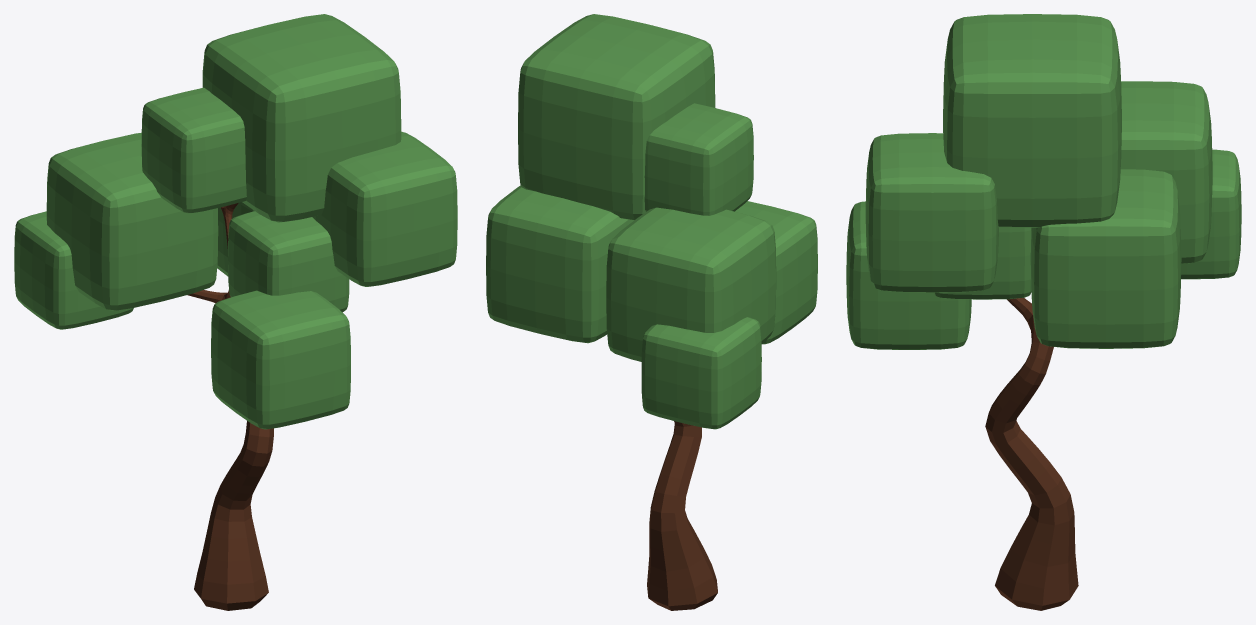
Rendered from FH LeafTree2.fbx.
The picture shows the model from 3 angles, left to right: view 1: azimuth 30°, elevation 25°; view 2: azimuth 150°, elevation 25°; view 3: azimuth 270°, elevation 25°; orthographic projection. The views are drawn at different scales.
Visible parts, largest first — view 1: LeafTree2; view 2: LeafTree2; view 3: LeafTree2.
Boxes of the visible parts, x1,y1,x2,y2 form: LeafTree2: (14, 14, 457, 610); LeafTree2: (486, 14, 817, 610); LeafTree2: (846, 14, 1241, 610).
Bounding box in the file's own units: 1977 × 3568 × 2143.
